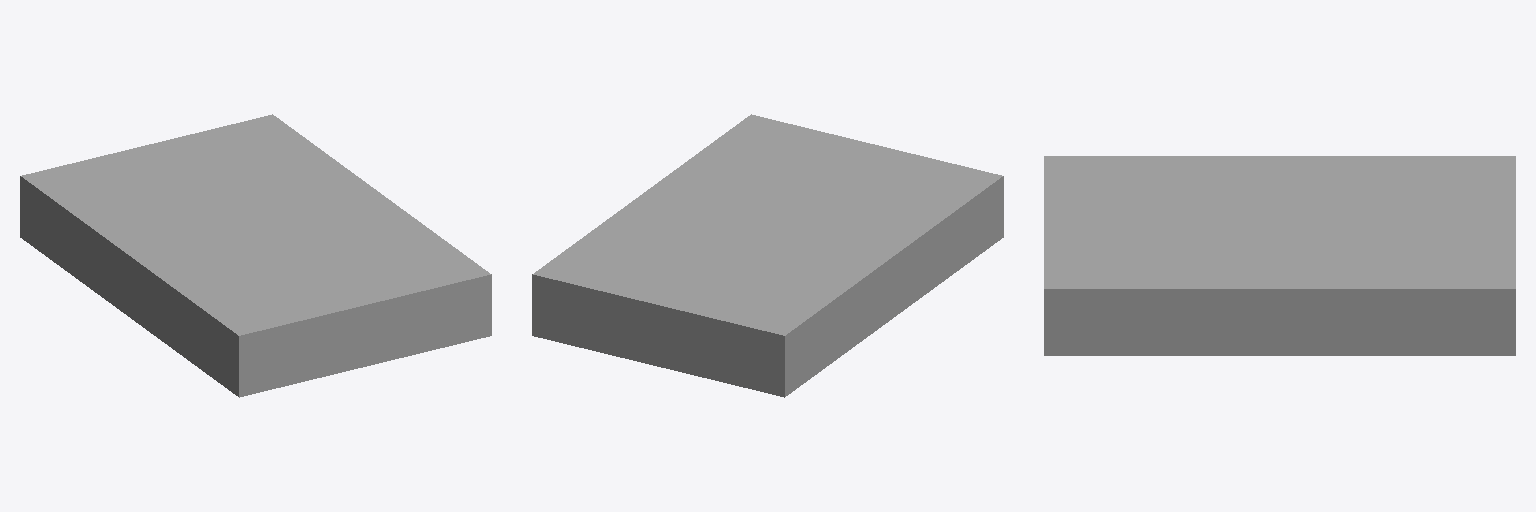
robot.urdf — tile_90_60_14:
<?xml version='1.0' encoding='utf-8'?>
<robot name="tile_90_60_14">
  <link name="base_link">
    <inertial>
      <origin xyz="0.0 0.0 0.0" rpy="0 0 0" />
      <mass value="1" />
      <inertia ixx="0.001" ixy="0" ixz="0" iyy="0.001" iyz="0" izz="0.001" />
    </inertial>
    <visual>
      <origin xyz="0 0 0" rpy="0 0 0" />
      <geometry>
        <mesh filename="package://tile_90_60_14/meshes/tile_90_60_14.stl" scale="1 1 1" />
      </geometry>
      <material name="grey">
        <color rgba="0.7 0.7 0.7 1.0" />
      </material>
    </visual>
    <collision>
      <origin xyz="0 0 0" rpy="0 0 0" />
      <geometry>
        <mesh filename="package://tile_90_60_14/meshes/tile_90_60_14.stl" scale="1 1 1" />
      </geometry>
    </collision>
  </link>
</robot>

--- Facts derived from the render (not from the file) ---
Views: 3 orthographic renders of the robot side by side, from view 1: azimuth 30°, elevation 25°; view 2: azimuth 150°, elevation 25°; view 3: azimuth 270°, elevation 25°.
Robot: tile_90_60_14 — 1 links, 0 joints (none); root link base_link; default pose: all joints at 0.
Links seen in each view (by area): view 1: base_link; view 2: base_link; view 3: base_link.
Link boxes in pixels (x1,y1,x2,y2): base_link: [20, 114, 491, 397]; base_link: [532, 114, 1003, 397]; base_link: [1044, 156, 1515, 355].
Bounding box of the posed robot: 0.6 × 0.9 × 0.14 m (x, y, z).
Meshes: 1 distinct files referenced, 1 mesh visuals loaded (1 binary STL).